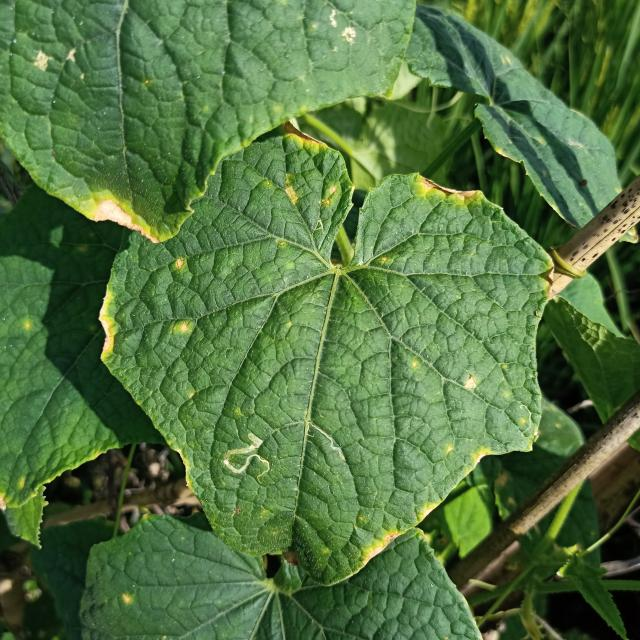disease_cucumber: (280, 128, 340, 213), (447, 440, 493, 468), (462, 372, 476, 392), (176, 322, 190, 337), (173, 256, 184, 273)
